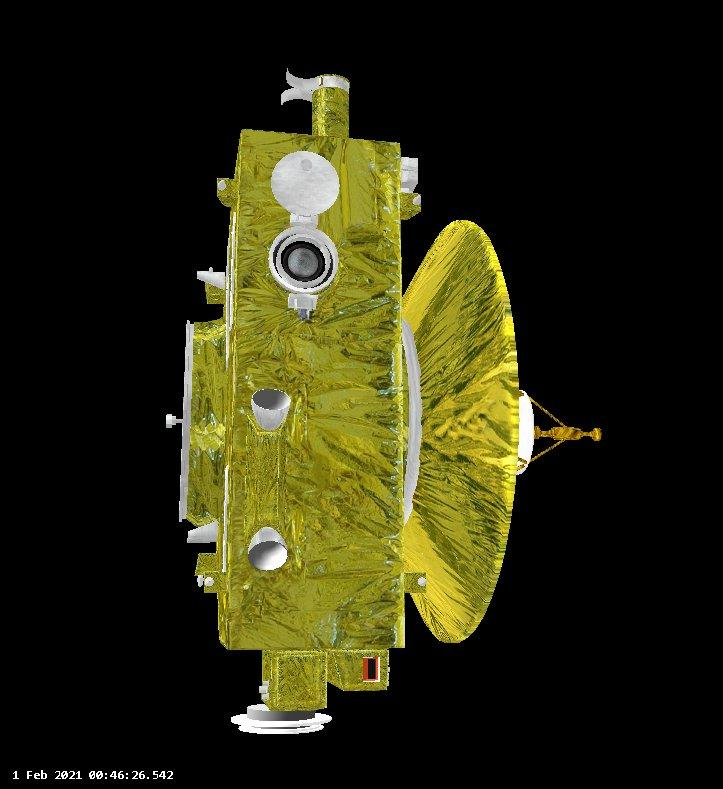antenna: (405, 216, 606, 647), (163, 313, 192, 524), (271, 149, 342, 215), (217, 179, 228, 193), (196, 575, 206, 588), (413, 195, 423, 207), (204, 576, 214, 587), (418, 577, 427, 588)
body: (195, 125, 414, 651)
thruster: (250, 382, 292, 436), (246, 524, 290, 574)
